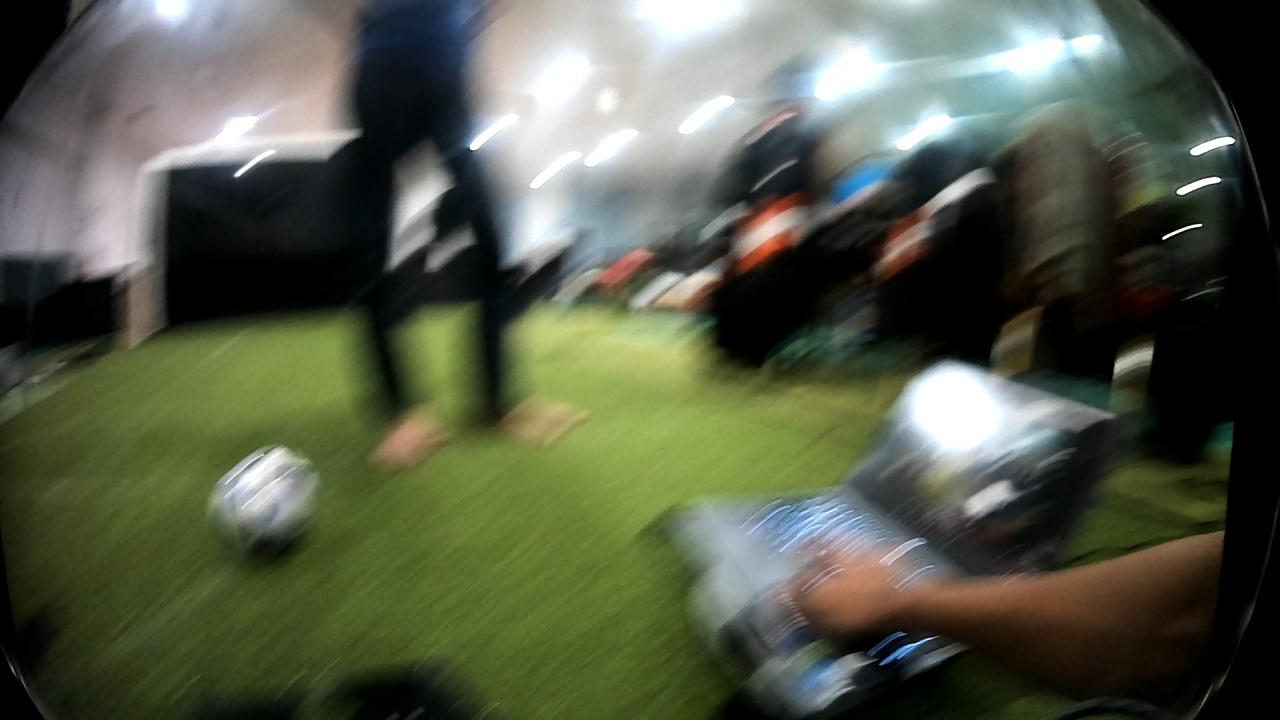ball: (201, 433, 333, 560)
